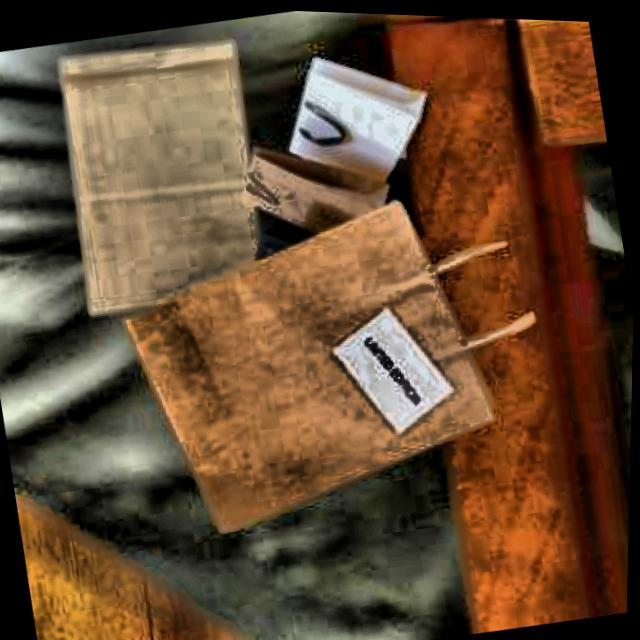Paper-bag: (103, 163, 574, 550), (36, 19, 286, 340), (218, 17, 462, 271)
